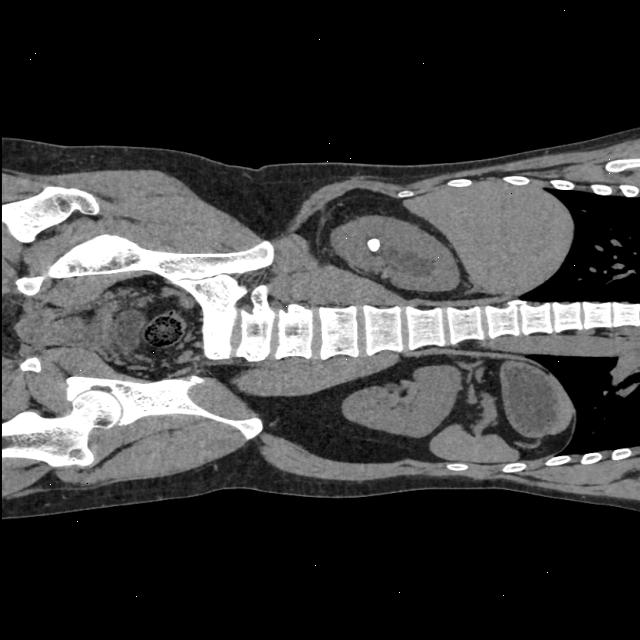kidneystone: (365, 239, 379, 252)
